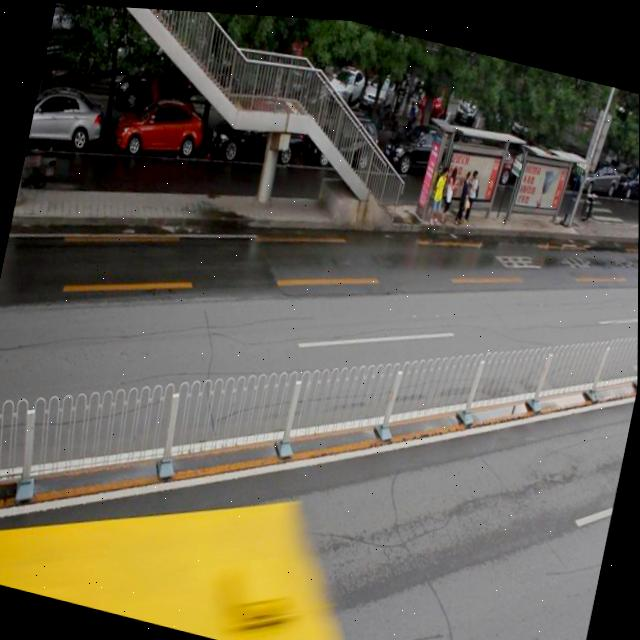car: (209, 79, 310, 170), (113, 86, 208, 163), (379, 105, 460, 182), (29, 80, 105, 155), (308, 102, 380, 171)
van: (0, 421, 380, 640)
